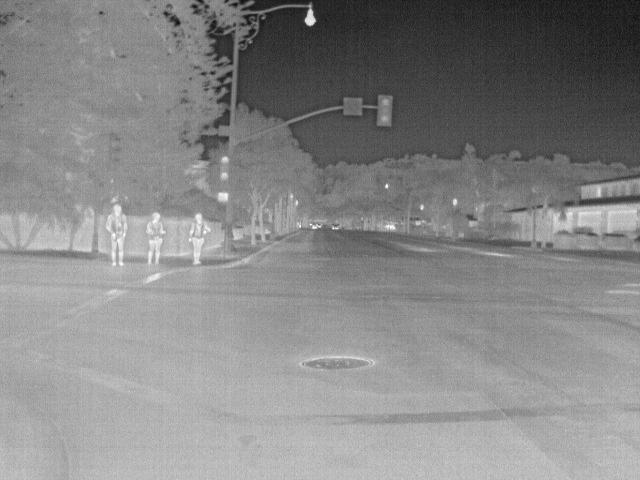person: (186, 212, 212, 266), (107, 203, 128, 267), (144, 212, 167, 267)
